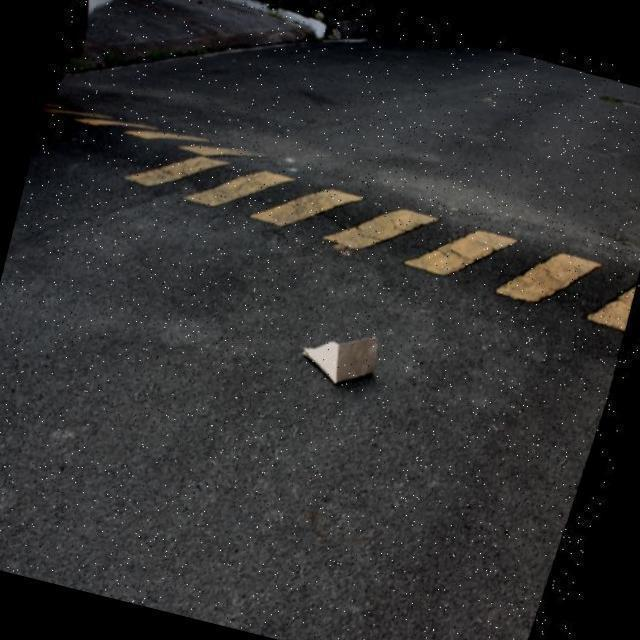Paper_Bag: (298, 315, 392, 395)
